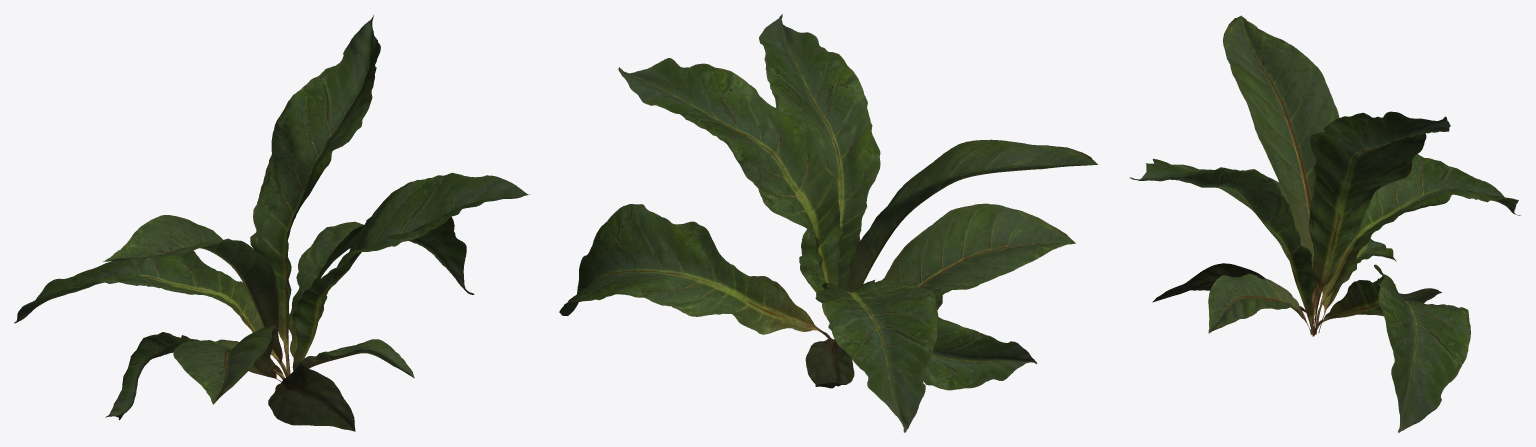
File: anthurium_botany_01_04.glb
The picture shows the model from 3 angles, left to right: view 1: azimuth 30°, elevation 25°; view 2: azimuth 150°, elevation 25°; view 3: azimuth 270°, elevation 25°; orthographic projection.
Visible parts, largest first — view 1: anthurium_botany_01; view 2: anthurium_botany_01; view 3: anthurium_botany_01.
Boxes of the visible parts, x1,y1,x2,y2 form: anthurium_botany_01: (14, 15, 529, 431); anthurium_botany_01: (559, 14, 1097, 432); anthurium_botany_01: (1129, 15, 1520, 432).
Size of the model in its own units: 0.7567 by 0.4717 by 0.5716.
1 material, 1 textured.
